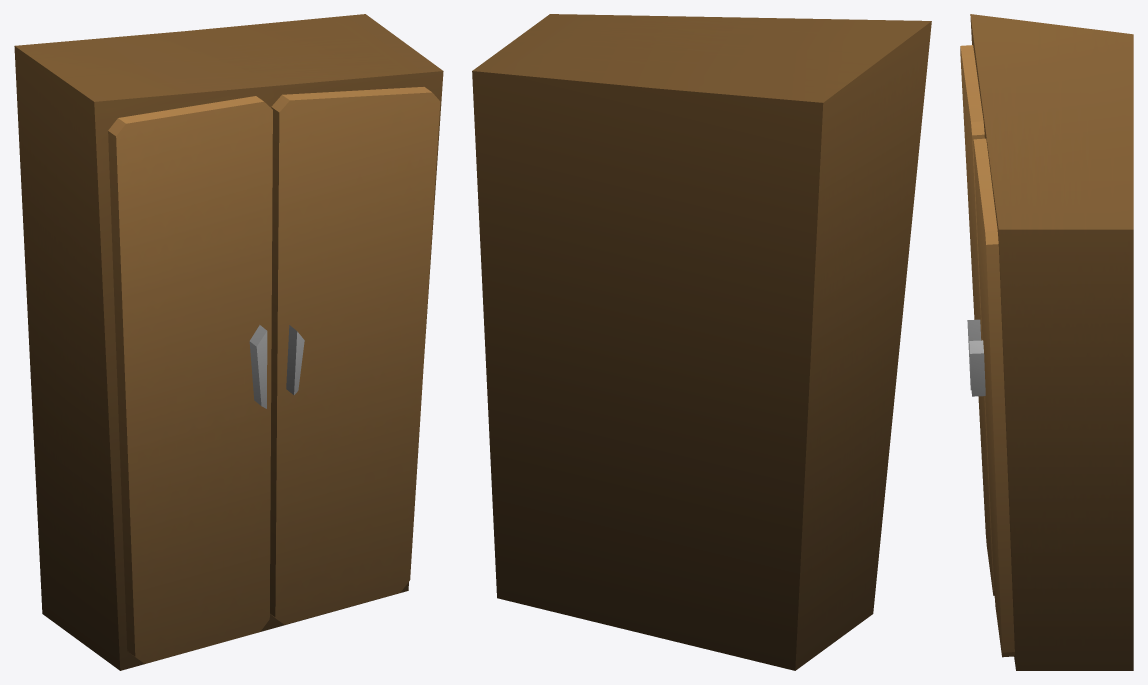
File: armadio.fbx
3 views of the same model, side by side, from view 1: azimuth 30°, elevation 25°; view 2: azimuth 150°, elevation 25°; view 3: azimuth 270°, elevation 25° (orthographic). The views are drawn at different scales.
Visible parts, largest first — view 1: SM_armadio; view 2: SM_armadio; view 3: SM_armadio.
Part boxes in pixels (left/top/right/bottom): SM_armadio: left=14, top=14, right=443, bottom=670; SM_armadio: left=472, top=14, right=931, bottom=670; SM_armadio: left=960, top=14, right=1133, bottom=670.
Bounding box in the file's own units: 271 × 419 × 128.
